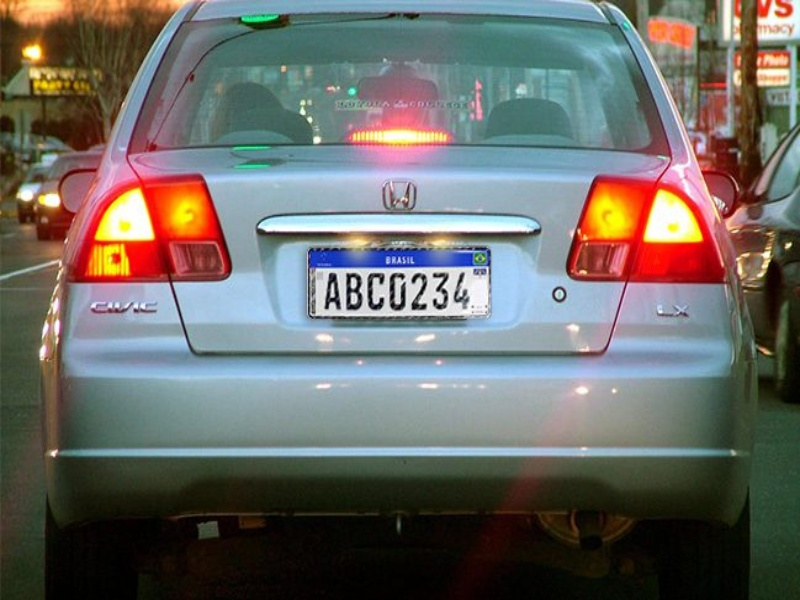placa: (300, 236, 504, 330)
